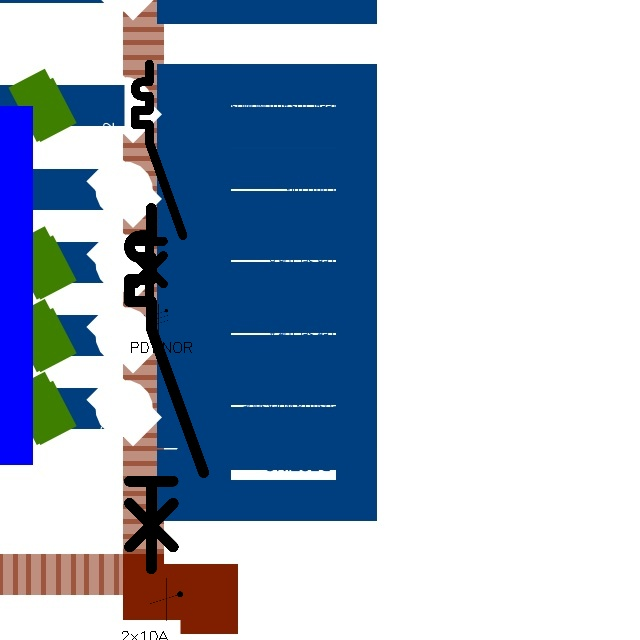interruptor_termomagnetico: (120, 199, 212, 578), (129, 58, 189, 304)
